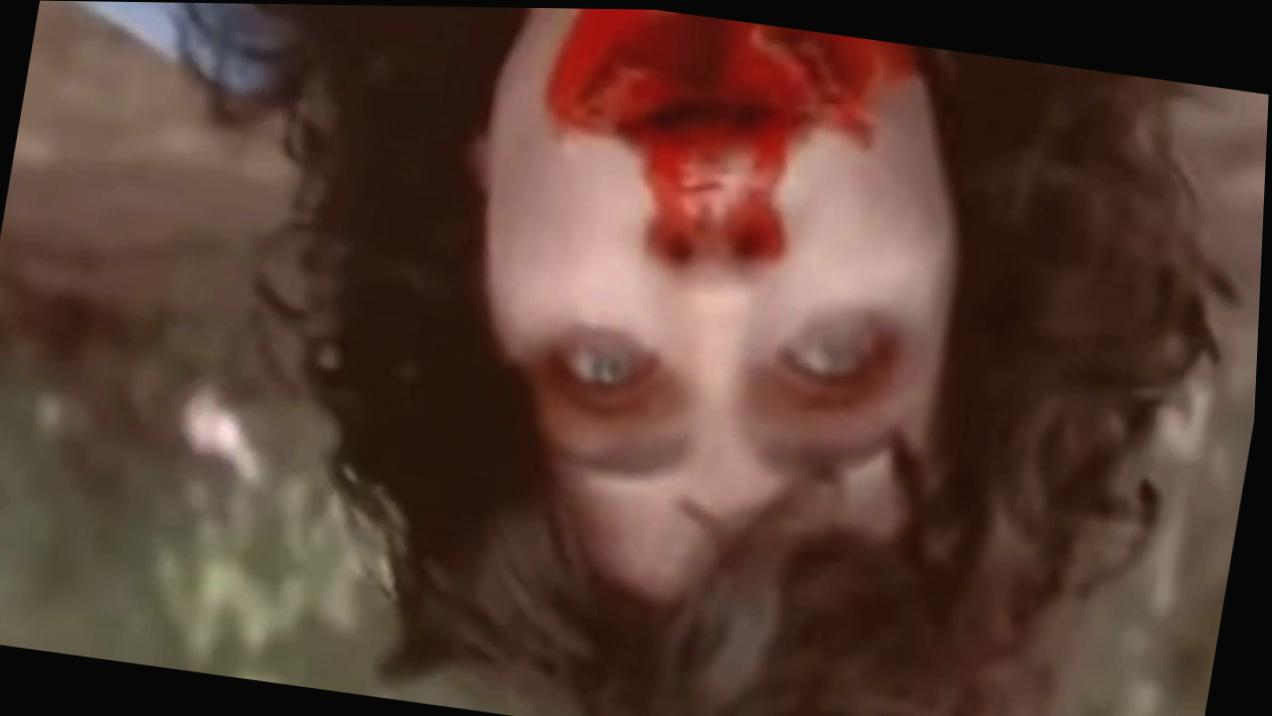Fire: (548, 7, 916, 261)
